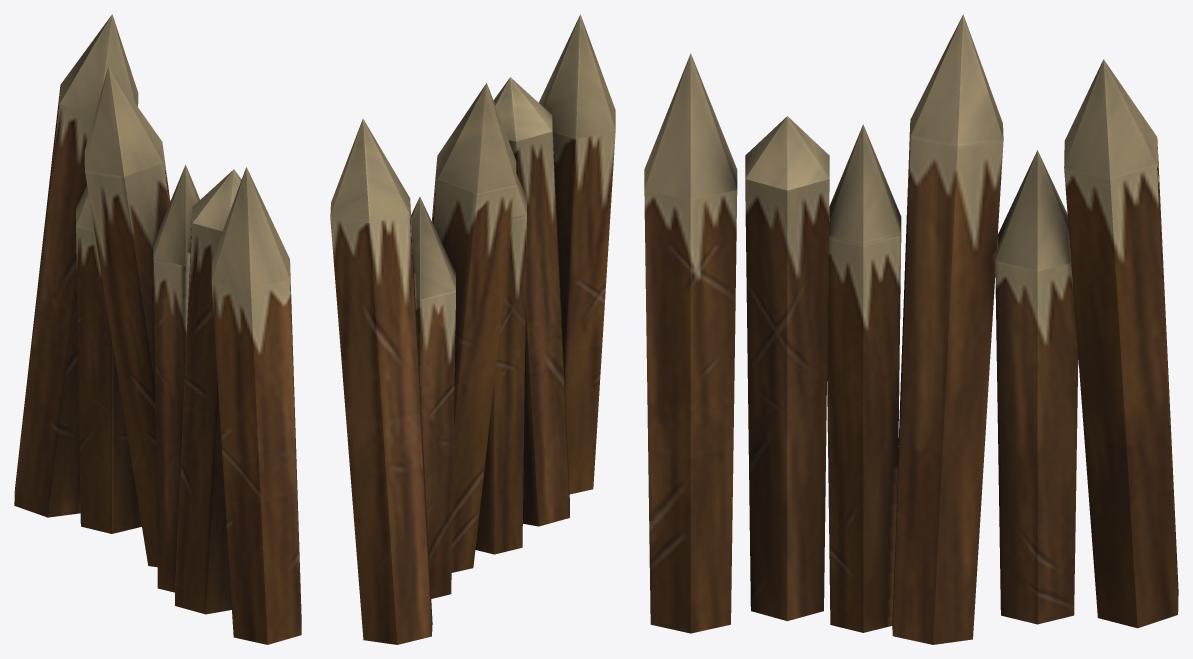
File: modelFence2.fbx
The picture shows the model from 3 angles, left to right: view 1: azimuth 30°, elevation 25°; view 2: azimuth 150°, elevation 25°; view 3: azimuth 270°, elevation 25°; orthographic projection. The views are drawn at different scales.
Visible parts, largest first — view 1: modelFence2; view 2: modelFence2; view 3: modelFence2.
Boxes of the visible parts, x1,y1,x2,y2 form: modelFence2: (14,14,301,644); modelFence2: (330,14,615,644); modelFence2: (644,14,1178,644).
Bounding box in the file's own units: 5.66 × 22.3 × 18.39.
